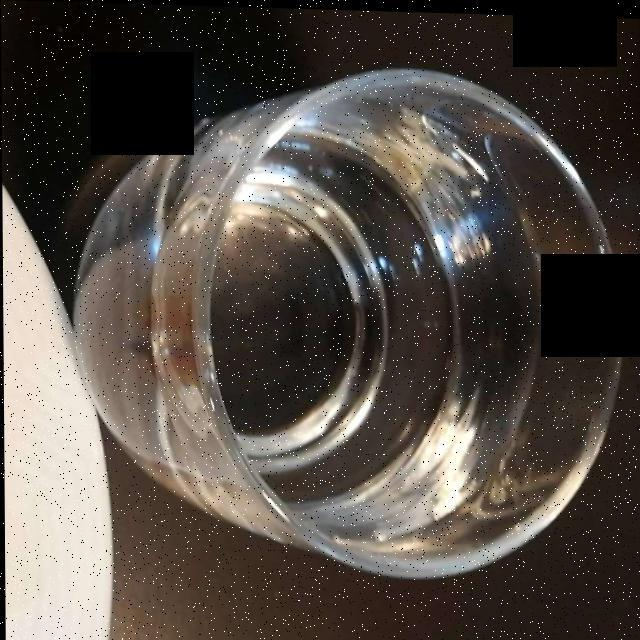water: (193, 117, 478, 501)
